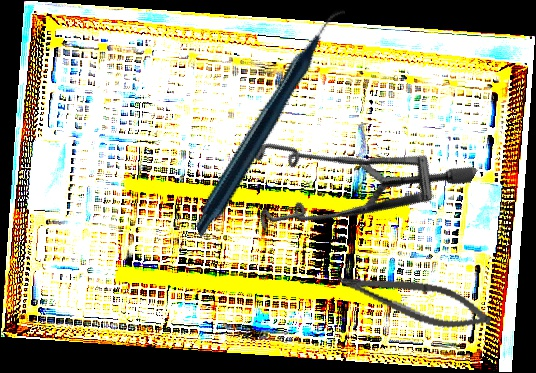Handpiece: (140, 7, 404, 239)
Micro Scissor: (332, 265, 496, 337)
Speculum: (221, 67, 479, 308)
